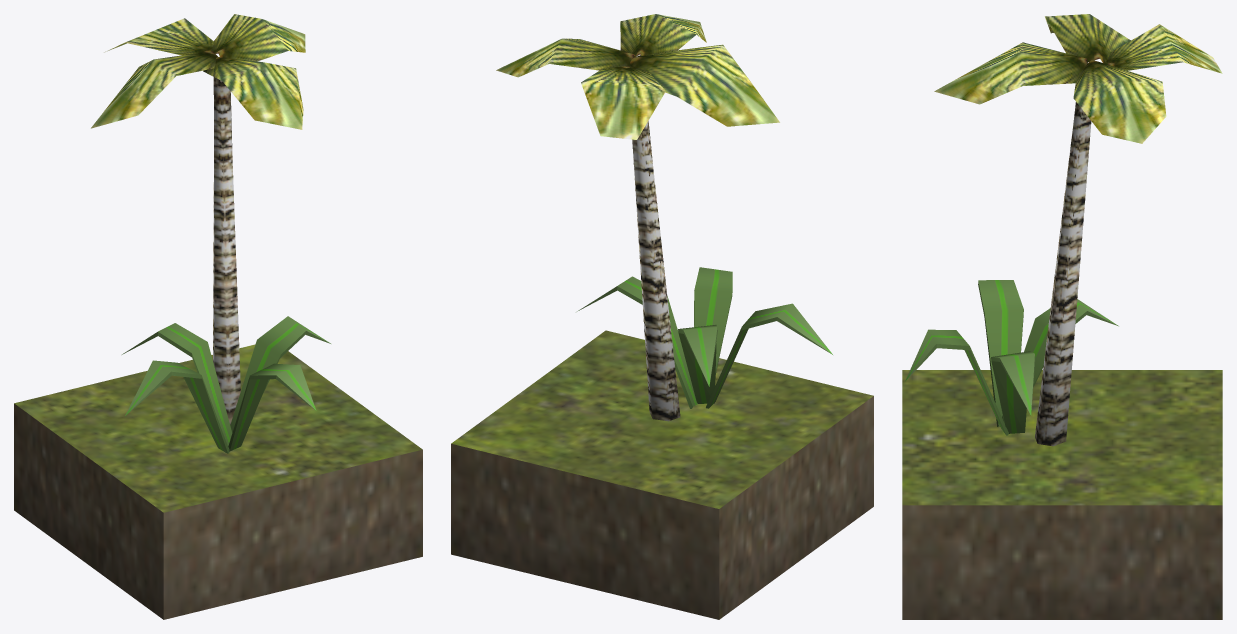
Rendered from jun_boundary_tree_plant.obj.
The picture shows the model from 3 angles, left to right: view 1: azimuth 30°, elevation 25°; view 2: azimuth 150°, elevation 25°; view 3: azimuth 270°, elevation 25°; orthographic projection. The views are drawn at different scales.
Parts seen in each view (by area): view 1: grass_earth_1; view 2: grass_earth_1; view 3: grass_earth_1.
Part boxes in pixels (box(x1,y1,x2,y2)): grass_earth_1: box(14, 14, 422, 619); grass_earth_1: box(451, 14, 873, 619); grass_earth_1: box(902, 14, 1222, 619).
Bounding box in the file's own units: 1 × 1.77 × 1.
Materials: 1 (1 with a texture image).
